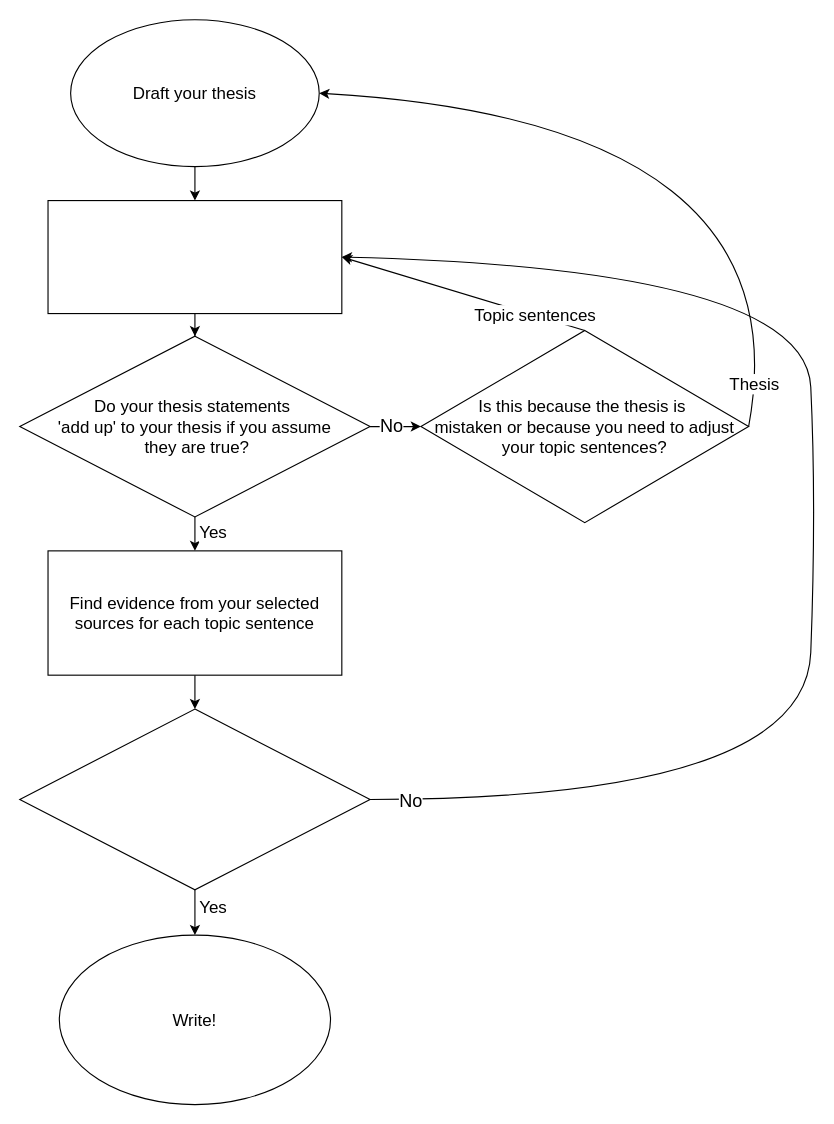
The diagram is 834 pixels wide and 1124 high, and some of its shapes have lost their labels. Here are the shapes that lost their labels. From the top down, the box of each, then its label:
(47, 199, 342, 314): Write your topic sentences - each part of your overall argument
(19, 708, 370, 890): Does that evidence prove the topic sentence?
